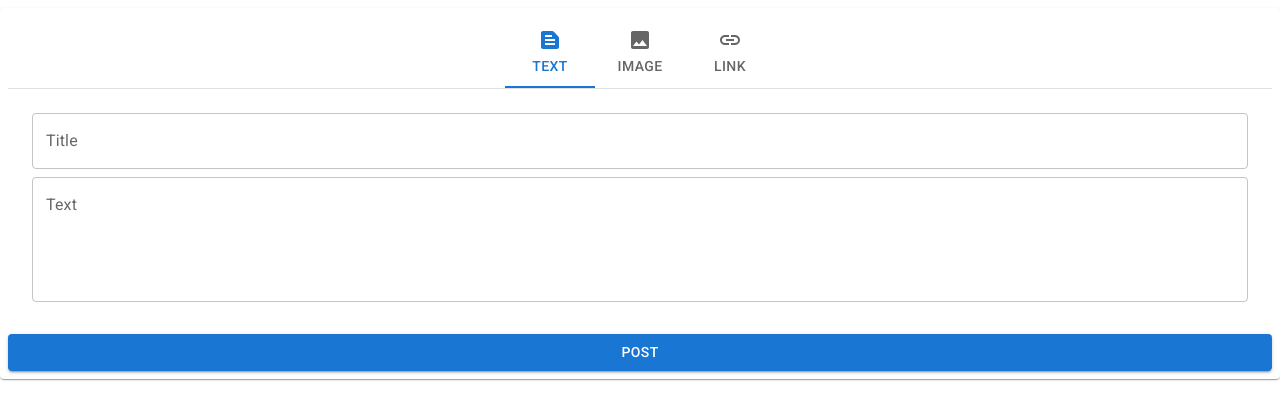
Test: CreatePostCard Tests › Check elements are rendered › should render the link input text field in the link tab
Click the tab with test id "link-icon" at (730, 52), box [685, 16, 775, 88]
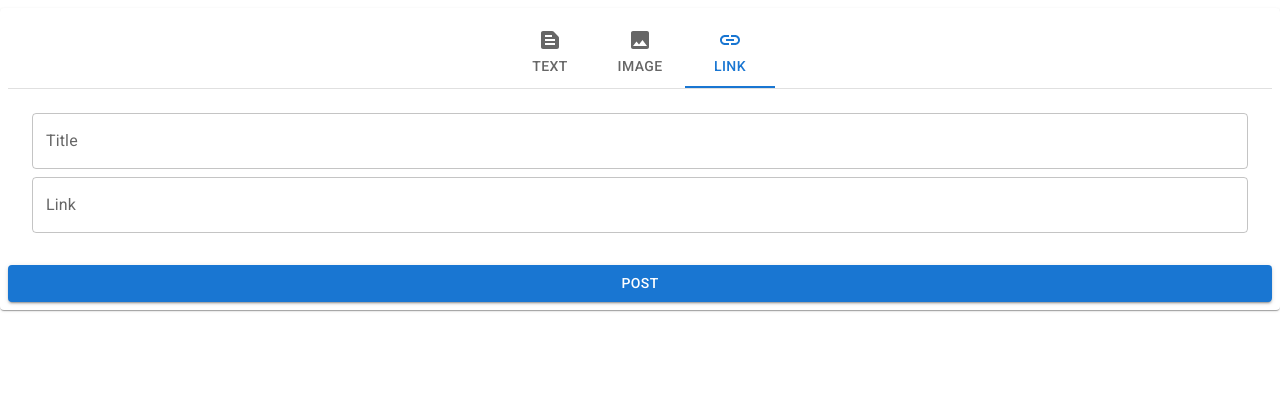
expect the element with test id "link-input" is shown: met, box [32, 177, 1248, 233]
